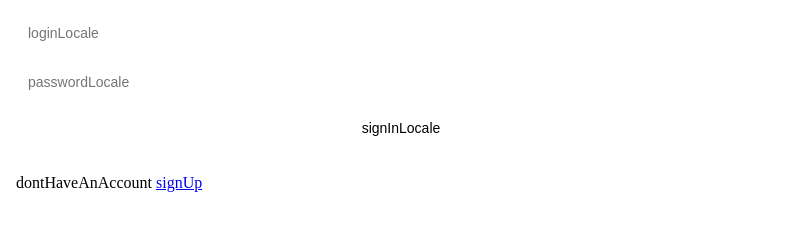
it: SignIn › displays error message for invalid credentials
Type "loginTest" into the field with test id "login-input" at (401, 32), box [16,16,786,49]
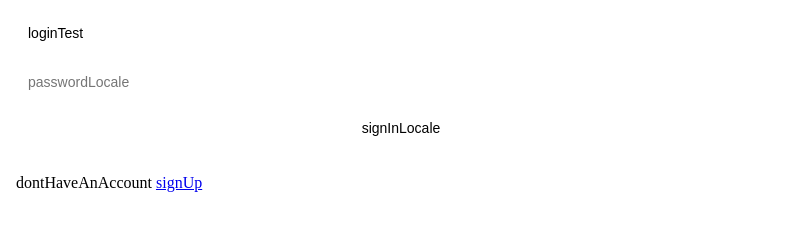
Type "passwordTest" into the password field with test id "password-input" at (401, 82), box [16,65,786,98]
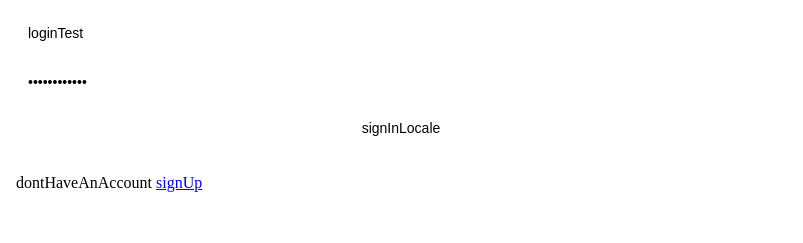
Click the button "signInLocale" at (401, 128), box [208,114,594,142]
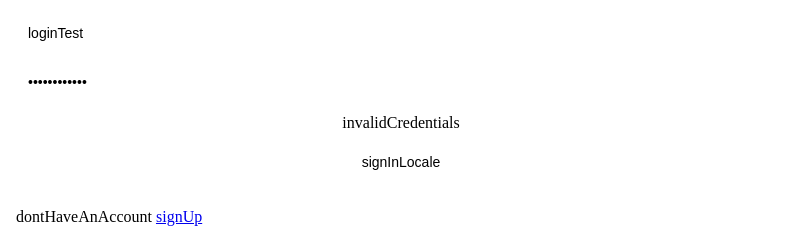
Result: the text "invalidCredentials" is shown at [342,114,460,131]
